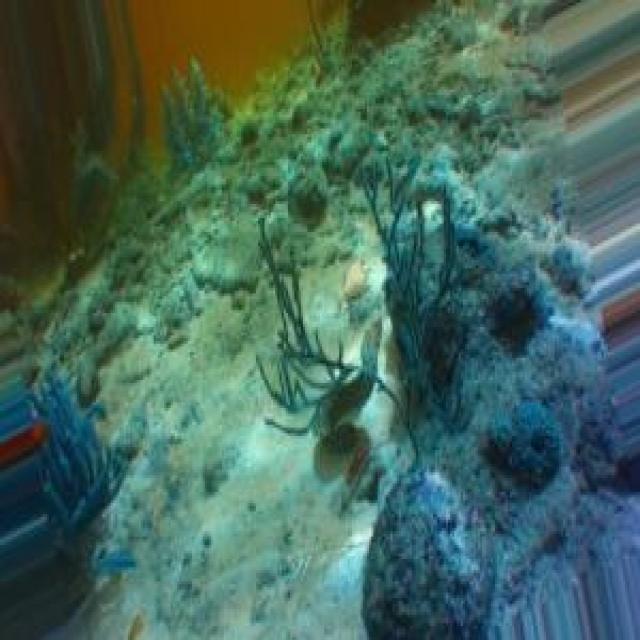Healthy: (257, 191, 421, 507), (362, 473, 515, 640), (372, 155, 464, 429), (10, 370, 123, 543), (479, 401, 571, 512), (485, 261, 558, 362)
